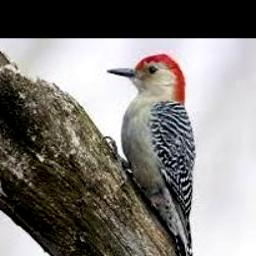Woodpecker: (107, 54, 212, 256)
